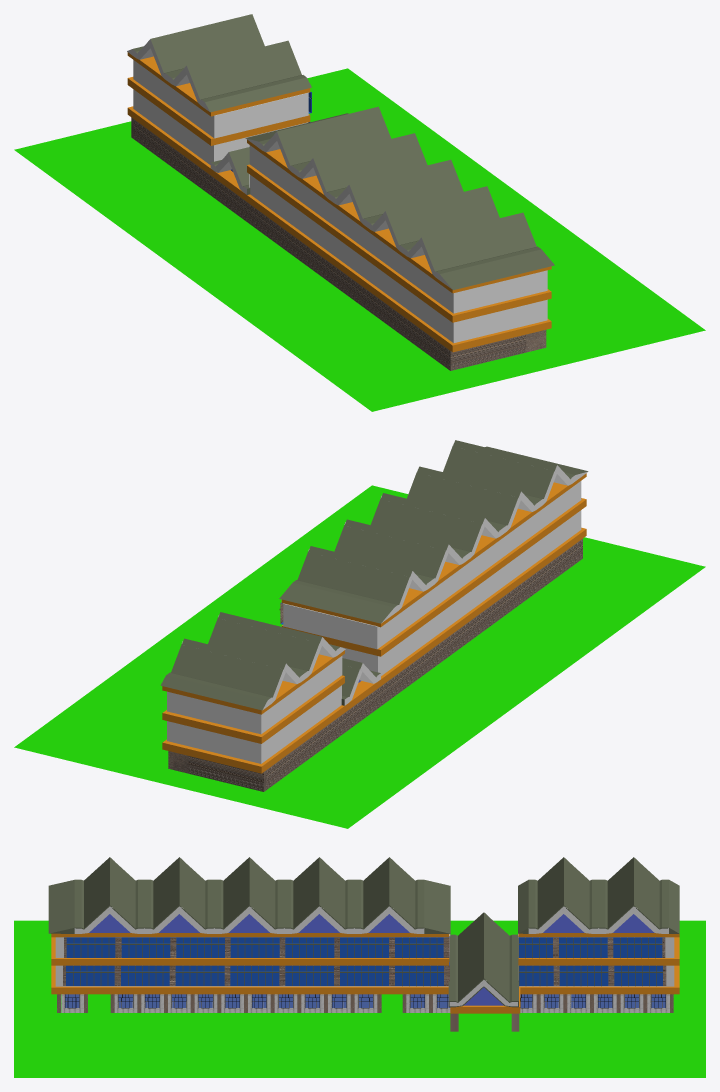
File: admin.glb
3 views of the same model, one above another, from view 1: azimuth 30°, elevation 25°; view 2: azimuth 150°, elevation 25°; view 3: azimuth 270°, elevation 25° (orthographic). The views are drawn at different scales.
Parts seen in each view (by area): view 1: Plane.028, Cube.135, Cube.170, Cube.132, Cube.176, Cube.203, Cube.134, Cube.169, Cube.142, Cube.140, Cube.172, Cube.178 (+4 smaller); view 2: Plane.028, Cube.135, Cube.132, Cube.170, Cube.141, Cube.179, Cube.134, Cube.169, Cube.139, Cube.171, Cube.173, Cube.175 (+9 smaller); view 3: Plane.028, Cube.133, Cube.136, Cube.169, Cube.134, Cube.176, Cube.141, Cube.137, Cube.203, Cube.139, Cube.179, Cube.138 (+20 smaller).
Part boxes in pixels (x1=…): Plane.028: x1=14, y1=68, x2=705, y2=411; Cube.135: x1=133, y1=60, x2=547, y2=313; Cube.170: x1=133, y1=89, x2=547, y2=343; Cube.132: x1=131, y1=117, x2=452, y2=370; Cube.176: x1=419, y1=212, x2=554, y2=290; Cube.203: x1=184, y1=40, x2=311, y2=112; Cube.134: x1=127, y1=77, x2=551, y2=322; Cube.169: x1=127, y1=106, x2=551, y2=352; Cube.142: x1=310, y1=133, x2=427, y2=200; Cube.140: x1=274, y1=106, x2=391, y2=174; Cube.172: x1=347, y1=159, x2=463, y2=226; Cube.178: x1=148, y1=14, x2=264, y2=81; Plane.028: x1=14, y1=485, x2=705, y2=828; Cube.135: x1=167, y1=481, x2=581, y2=734; Cube.132: x1=168, y1=538, x2=582, y2=791; Cube.170: x1=167, y1=510, x2=581, y2=763; Cube.141: x1=279, y1=549, x2=411, y2=623; Cube.179: x1=160, y1=641, x2=285, y2=710; Cube.134: x1=162, y1=498, x2=586, y2=743; Cube.169: x1=162, y1=527, x2=586, y2=773; Cube.139: x1=162, y1=473, x2=586, y2=714; Cube.171: x1=334, y1=522, x2=448, y2=586; Cube.173: x1=370, y1=496, x2=484, y2=560; Cube.175: x1=407, y1=469, x2=520, y2=533; Plane.028: x1=14, y1=920, x2=705, y2=1077; Cube.133: x1=63, y1=962, x2=666, y2=986; Cube.136: x1=64, y1=936, x2=665, y2=958; Cube.169: x1=51, y1=965, x2=679, y2=1031; Cube.134: x1=51, y1=937, x2=679, y2=965; Cube.176: x1=48, y1=857, x2=114, y2=933; Cube.141: x1=386, y1=862, x2=450, y2=933; Cube.137: x1=448, y1=912, x2=488, y2=1007; Cube.203: x1=518, y1=857, x2=568, y2=933; Cube.139: x1=51, y1=933, x2=679, y2=937; Cube.179: x1=631, y1=862, x2=679, y2=933; Cube.138: x1=481, y1=917, x2=518, y2=1007.
Size of the model in its own units: 102 by 33.34 by 189.
Materials: 10 (2 with a texture image).
